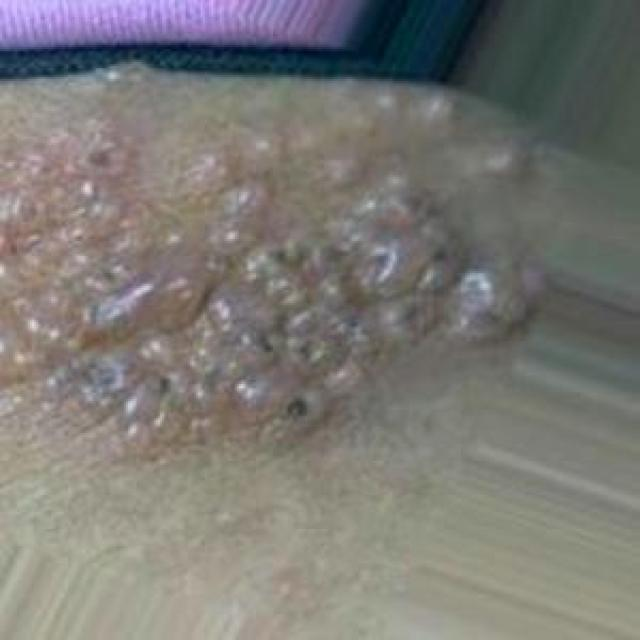Shingles: (0, 112, 533, 454)
